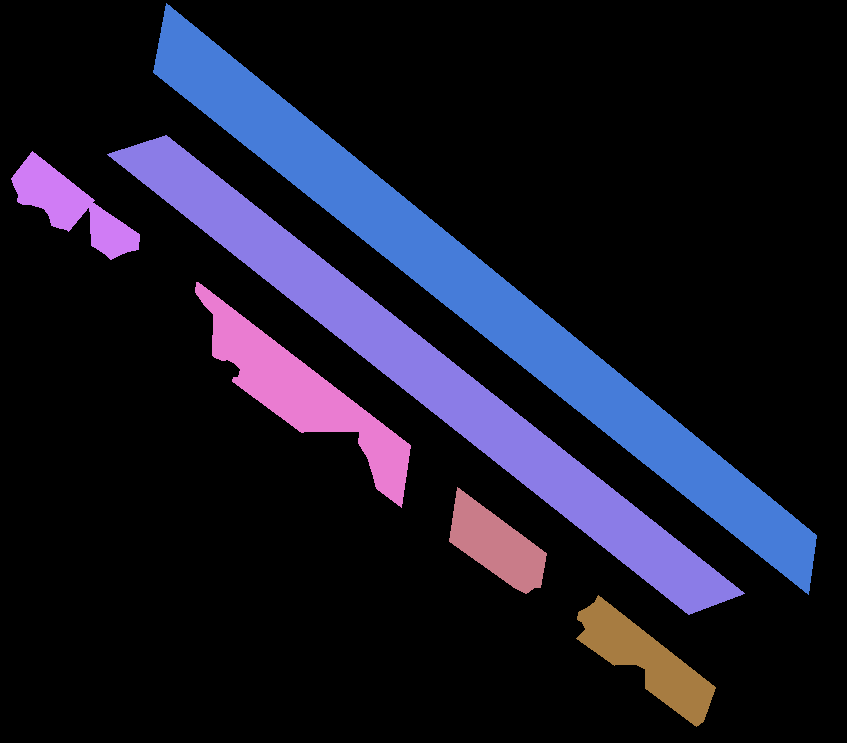parkingspot: (153, 3, 816, 594), (107, 135, 744, 614), (195, 282, 410, 507), (576, 595, 715, 726), (449, 487, 546, 593), (11, 151, 94, 231), (89, 200, 139, 259)
